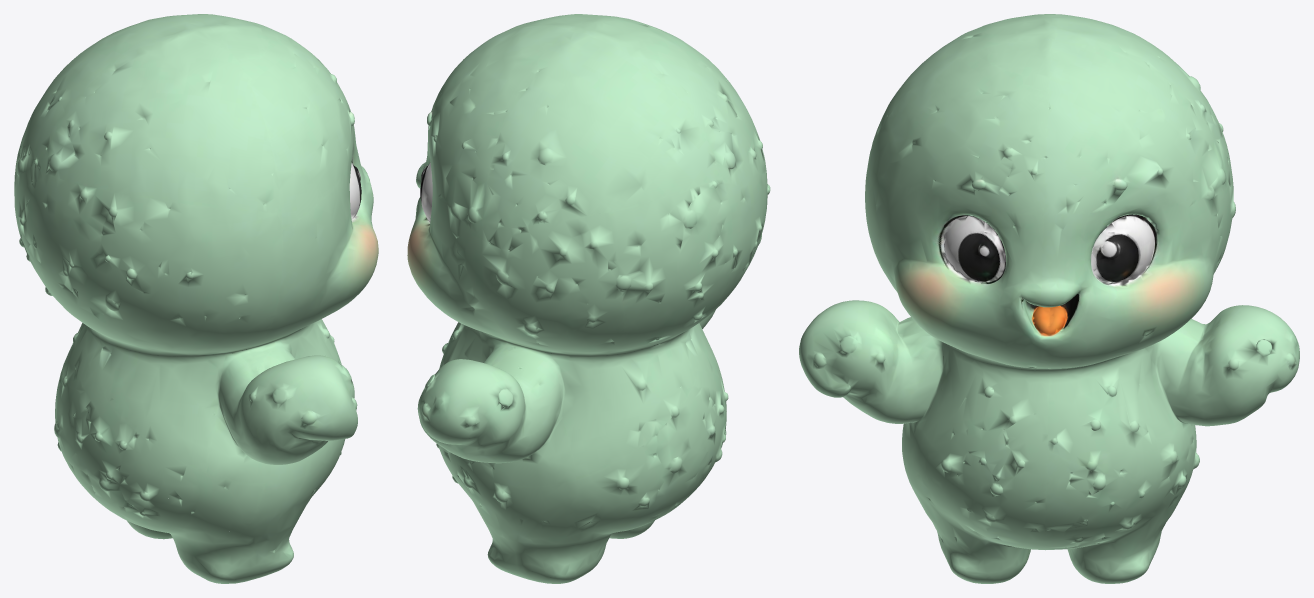
File: cast_mote.glb
3 renders of one model, left to right at view 1: azimuth 30°, elevation 25°; view 2: azimuth 150°, elevation 25°; view 3: azimuth 270°, elevation 25°, orthographic.
Visible parts, largest first — view 1: tripo_node_28327d1d-aeb3-4f69-9f93-da1ebad94c94; view 2: tripo_node_28327d1d-aeb3-4f69-9f93-da1ebad94c94; view 3: tripo_node_28327d1d-aeb3-4f69-9f93-da1ebad94c94.
Boxes of the visible parts, box(x1,y1,x2,y2) form: tripo_node_28327d1d-aeb3-4f69-9f93-da1ebad94c94: box(14, 14, 378, 583); tripo_node_28327d1d-aeb3-4f69-9f93-da1ebad94c94: box(407, 14, 770, 583); tripo_node_28327d1d-aeb3-4f69-9f93-da1ebad94c94: box(799, 14, 1299, 583).
Bounding box in the file's own units: 0.6334 × 0.9798 × 0.8362.
Materials: 1 (1 with a texture image).
